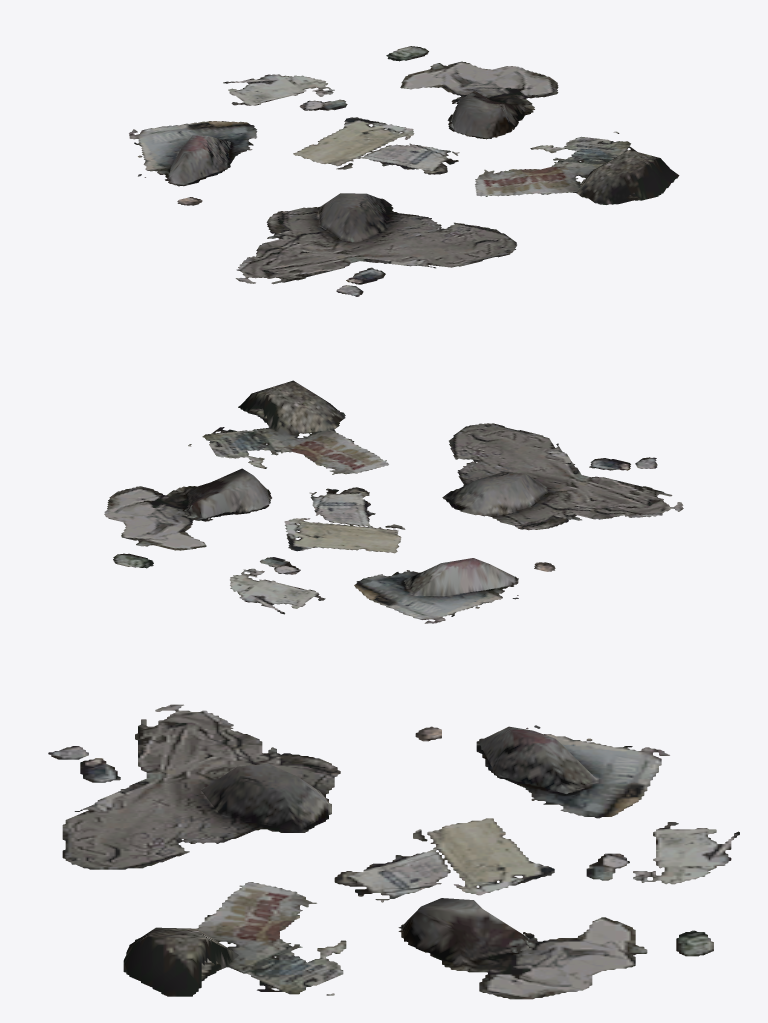
Rendered from Trash02.glb.
3 renders of one model, top to bottom at view 1: azimuth 30°, elevation 25°; view 2: azimuth 150°, elevation 25°; view 3: azimuth 270°, elevation 25°, orthographic. The views are drawn at different scales.
Visible parts, largest first — view 1: _Trash02; view 2: _Trash02; view 3: _Trash02.
Part boxes in pixels (x1,y1,x2,y2): _Trash02: [129, 46, 679, 296]; _Trash02: [104, 380, 683, 623]; _Trash02: [48, 704, 739, 999].
Bounding box in the file's own units: 1.6 × 0.0798 × 1.6.
1 material, 1 textured.
